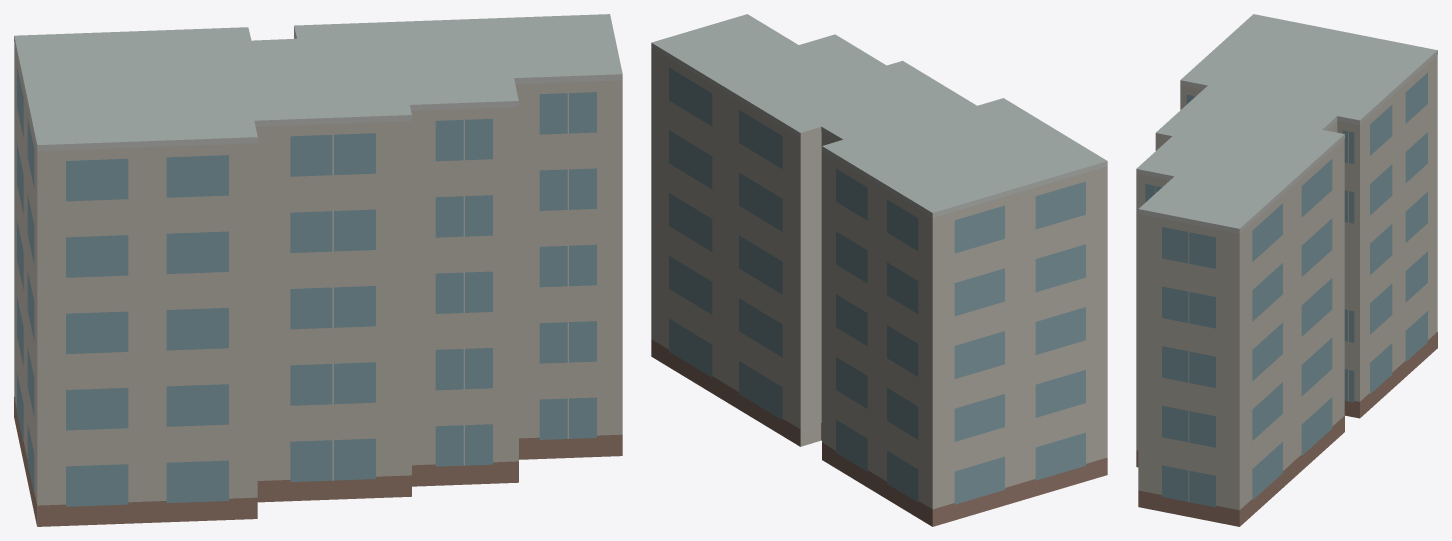
Rendered from survey-upis-33039618.glb.
3 views of the same model, side by side, from view 1: azimuth 30°, elevation 25°; view 2: azimuth 150°, elevation 25°; view 3: azimuth 270°, elevation 25° (orthographic). The views are drawn at different scales.
Visible parts, largest first — view 1: survey-upis-33039618.tmp; view 2: survey-upis-33039618.tmp; view 3: survey-upis-33039618.tmp.
Boxes of the visible parts, bbox=[...] form: survey-upis-33039618.tmp: bbox=[14, 14, 622, 526]; survey-upis-33039618.tmp: bbox=[651, 14, 1107, 526]; survey-upis-33039618.tmp: bbox=[1136, 14, 1437, 526].
Size of the model in its own units: 23.59 by 15.25 by 13.99.
